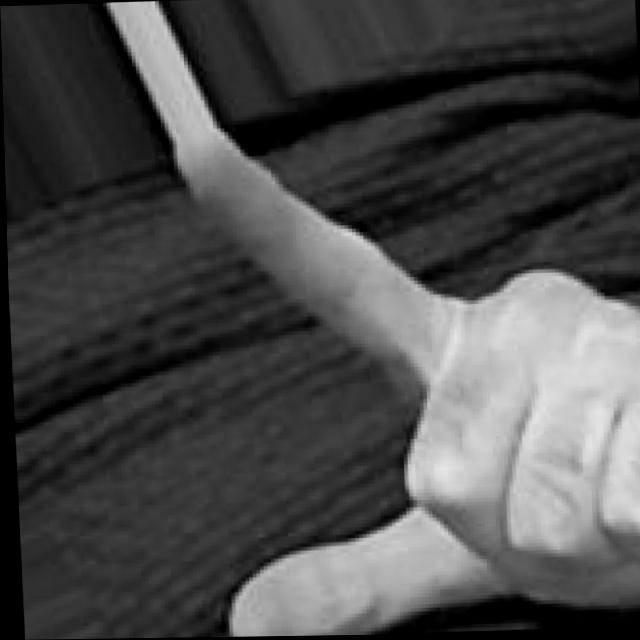L: (171, 121, 640, 638)
